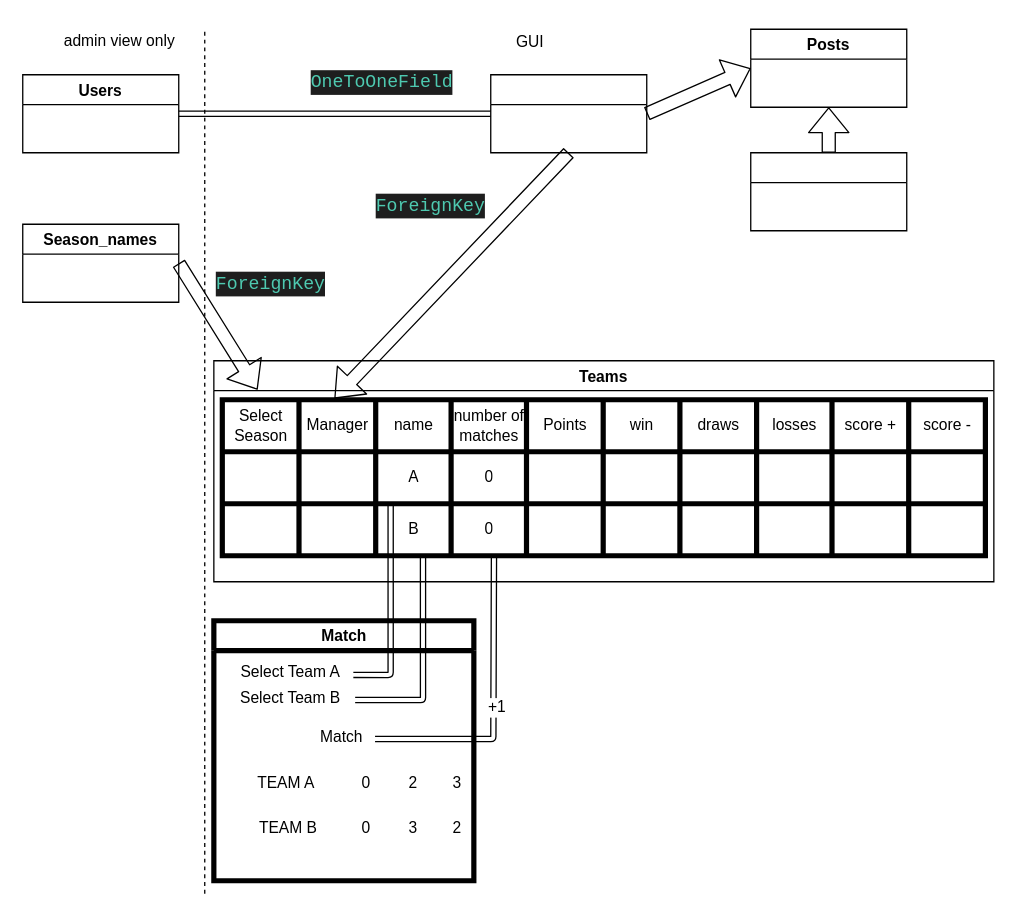
The diagram is 1017 pixels wide and 918 high, and some of its shapes have lost their labels. Each missing label, with the centre of its shape:
"Comments" goes at pixel 828 191.
"Managers" goes at pixel 568 113.
